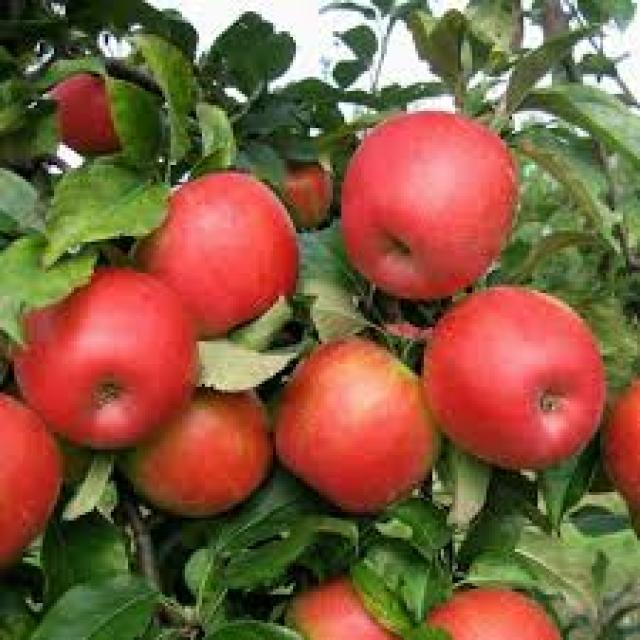apple: (14, 267, 199, 448), (342, 110, 518, 300), (425, 286, 606, 468), (277, 343, 423, 516)
